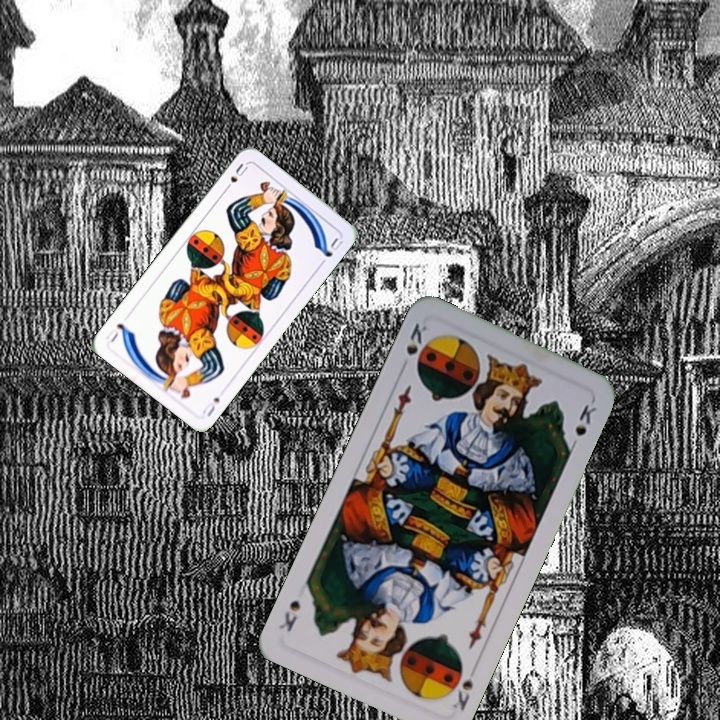SK: (444, 659, 476, 714), (402, 319, 430, 358)
SU: (220, 159, 251, 194), (199, 393, 222, 420)
